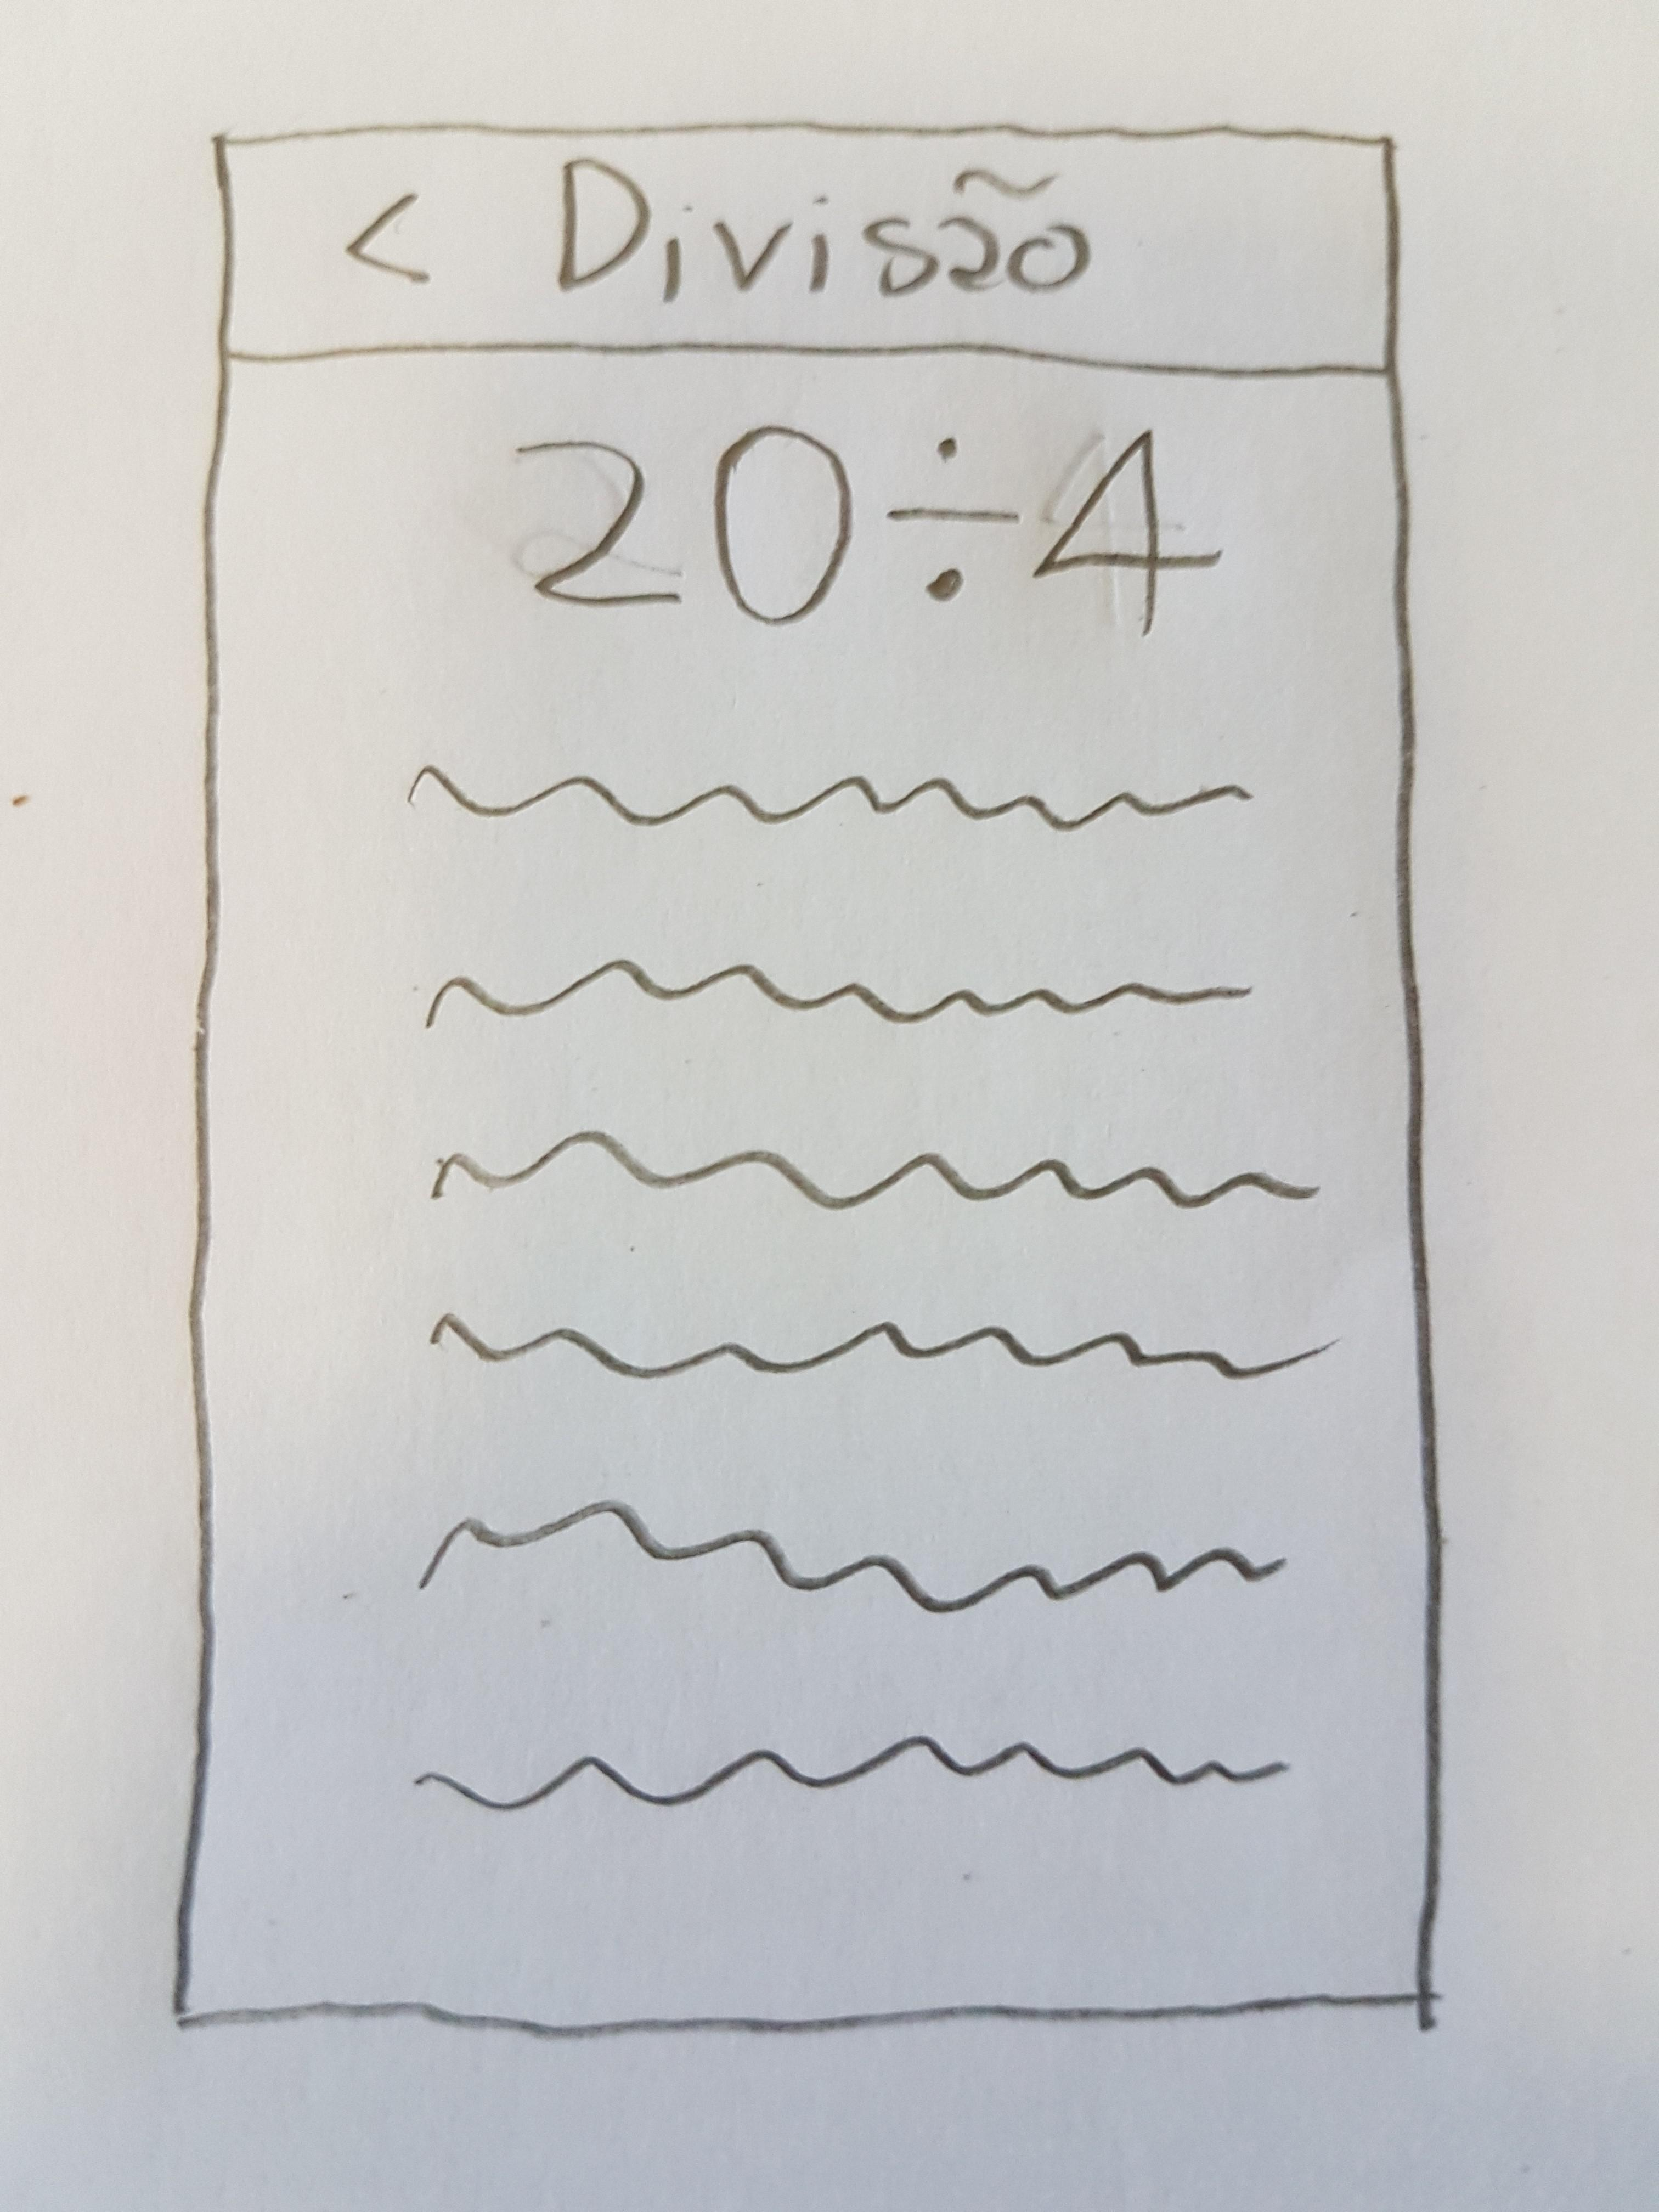Button: (333, 190, 441, 289)
Label: (403, 759, 1340, 1817), (493, 423, 1229, 641), (556, 158, 1098, 314)
Screen: (176, 120, 1439, 2038)
